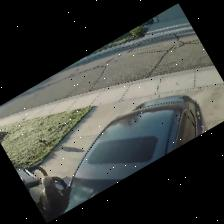person: (38, 177, 66, 218)
